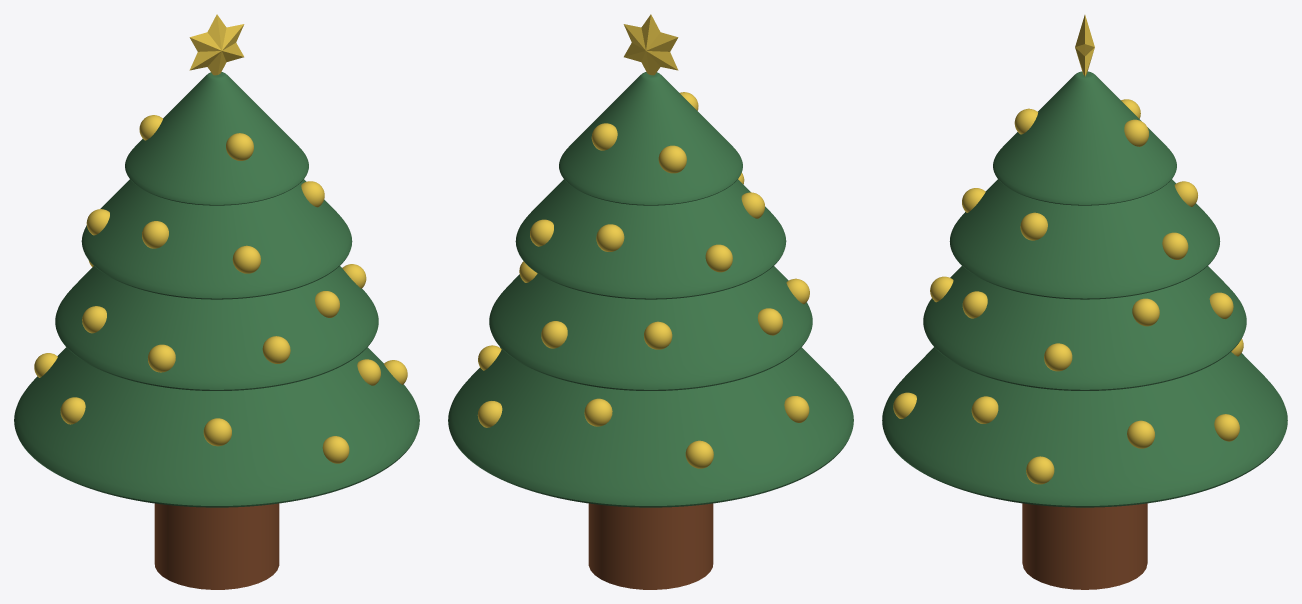
File: tree2.glb
3 views of the same model, side by side, from view 1: azimuth 30°, elevation 25°; view 2: azimuth 150°, elevation 25°; view 3: azimuth 270°, elevation 25° (orthographic).
Parts seen in each view (by area): view 1: Cylinder.003, Cylinder.002, Cylinder.001, Cylinder, Cylinder.004, Circle, Sphere.008, Sphere.004, Sphere.025, Sphere.002, Sphere.006, Sphere.024 (+4 smaller); view 2: Cylinder.003, Cylinder.002, Cylinder.001, Cylinder, Cylinder.004, Circle, Sphere.018, Sphere.013, Sphere.021, Sphere.020, Sphere.014, Sphere.016 (+4 smaller); view 3: Cylinder.003, Cylinder.002, Cylinder.001, Cylinder, Cylinder.004, Circle, Sphere.007, Sphere.011, Sphere.027, Sphere.026, Sphere.003, Sphere.010 (+4 smaller).
Part boxes in pixels (x1=…): Cylinder.003: x1=14, y1=347, x2=419, y2=507; Cylinder.002: x1=55, y1=266, x2=378, y2=390; Cylinder.001: x1=81, y1=179, x2=352, y2=299; Cylinder: x1=125, y1=72, x2=308, y2=205; Cylinder.004: x1=154, y1=503, x2=279, y2=589; Circle: x1=189, y1=14, x2=244, y2=75; Sphere.008: x1=203, y1=418, x2=231, y2=446; Sphere.004: x1=232, y1=245, x2=260, y2=273; Sphere.025: x1=148, y1=344, x2=175, y2=372; Sphere.002: x1=226, y1=133, x2=253, y2=160; Sphere.006: x1=262, y1=336, x2=290, y2=363; Sphere.024: x1=142, y1=221, x2=168, y2=248; Cylinder.003: x1=448, y1=347, x2=853, y2=507; Cylinder.002: x1=489, y1=266, x2=812, y2=390; Cylinder.001: x1=515, y1=179, x2=786, y2=299; Cylinder: x1=559, y1=72, x2=742, y2=205; Cylinder.004: x1=588, y1=503, x2=713, y2=589; Circle: x1=623, y1=14, x2=678, y2=75; Sphere.018: x1=644, y1=321, x2=672, y2=349; Sphere.013: x1=658, y1=145, x2=686, y2=173; Sphere.021: x1=685, y1=440, x2=713, y2=468; Sphere.020: x1=584, y1=398, x2=612, y2=426; Sphere.014: x1=596, y1=224, x2=624, y2=251; Sphere.016: x1=705, y1=244, x2=732, y2=272; Cylinder.003: x1=882, y1=347, x2=1287, y2=507; Cylinder.002: x1=923, y1=266, x2=1246, y2=390; Cylinder.001: x1=949, y1=179, x2=1220, y2=299; Cylinder: x1=993, y1=71, x2=1176, y2=205; Cylinder.004: x1=1022, y1=503, x2=1147, y2=589; Circle: x1=1075, y1=15, x2=1094, y2=76; Sphere.007: x1=1044, y1=343, x2=1072, y2=371; Sphere.011: x1=1026, y1=456, x2=1054, y2=484; Sphere.027: x1=1127, y1=420, x2=1154, y2=448; Sphere.026: x1=1132, y1=298, x2=1159, y2=326; Sphere.003: x1=1020, y1=212, x2=1047, y2=240; Sphere.010: x1=971, y1=396, x2=998, y2=423.
Bounding box in the file's own units: 4.22 × 6.3 × 4.22.
